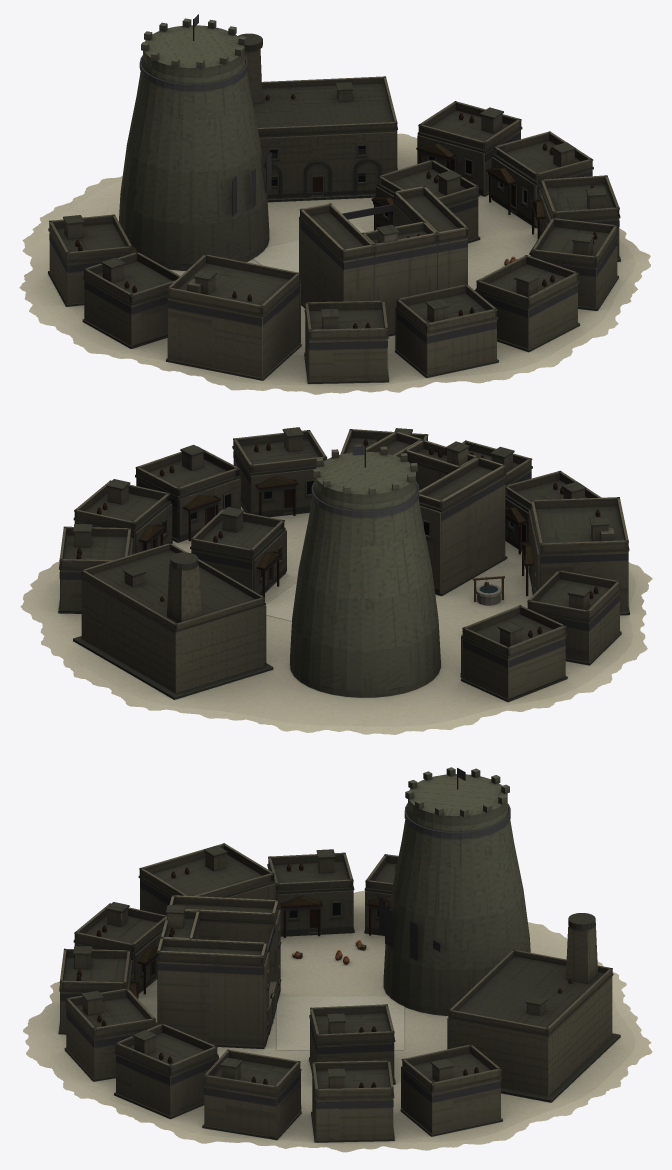
The model's file is classical-town-medium-b-eastafrica-40422be9.glb.
3 renders of one model, top to bottom at view 1: azimuth 30°, elevation 25°; view 2: azimuth 150°, elevation 25°; view 3: azimuth 270°, elevation 25°, orthographic.
Visible parts, largest first — view 1: LOD0; view 2: LOD0; view 3: LOD0.
Boxes of the visible parts, left/top/right/bottom form: LOD0: left=19, top=14, right=650, bottom=394; LOD0: left=20, top=427, right=652, bottom=734; LOD0: left=23, top=767, right=652, bottom=1152.
Size of what is drawn, in the model's own units: 5.91 by 2.28 by 6.06.
3 materials, 3 textured.
